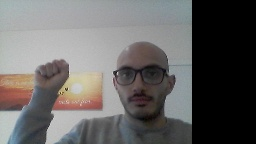Pugno: (32, 58, 70, 89)
